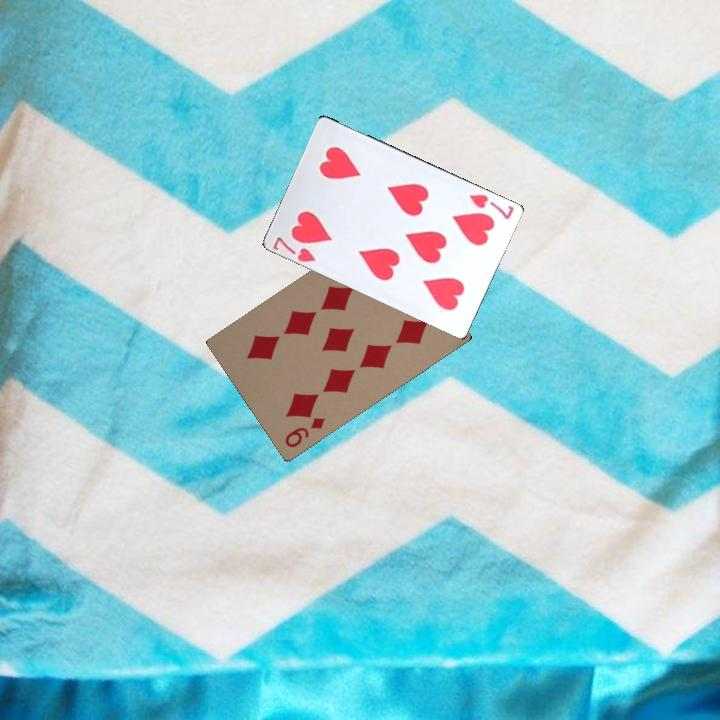7h: (465, 190, 517, 222), (269, 232, 318, 265)
9d: (281, 413, 328, 450)
